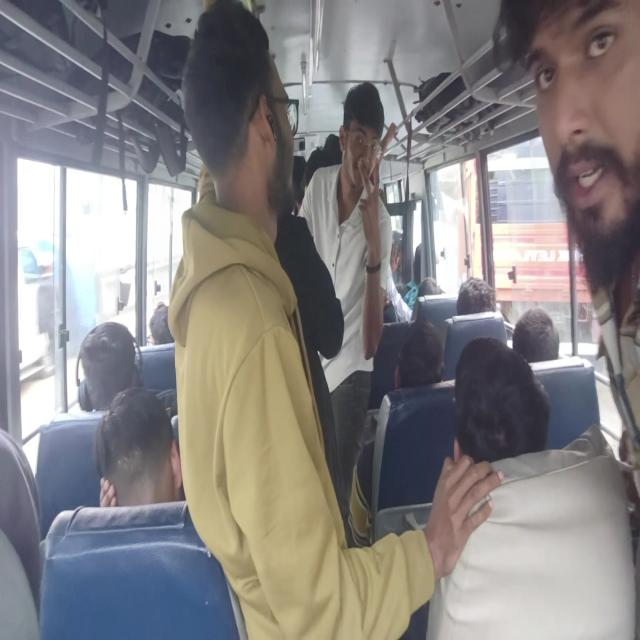person: (167, 2, 504, 638), (492, 0, 639, 501), (425, 335, 637, 638), (296, 80, 398, 524), (452, 335, 550, 466), (94, 385, 184, 508), (75, 320, 143, 412), (394, 317, 444, 389), (512, 306, 560, 363), (456, 276, 496, 316), (147, 301, 174, 345)
